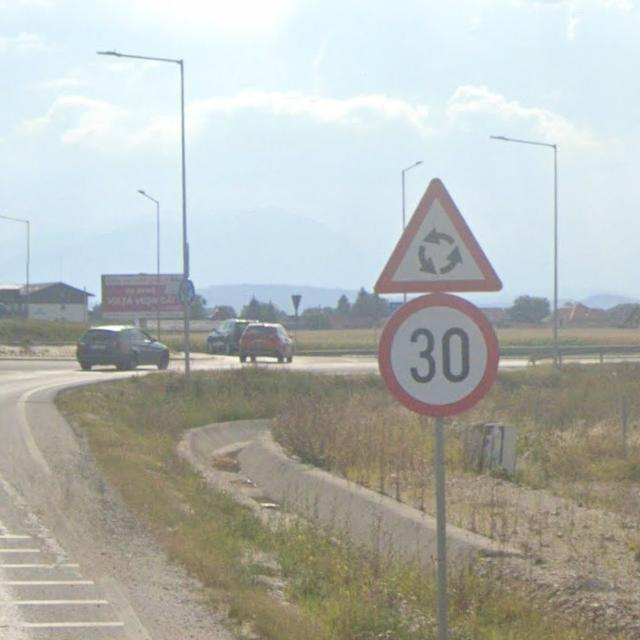forb_speed_over_30: (377, 294, 500, 418)
